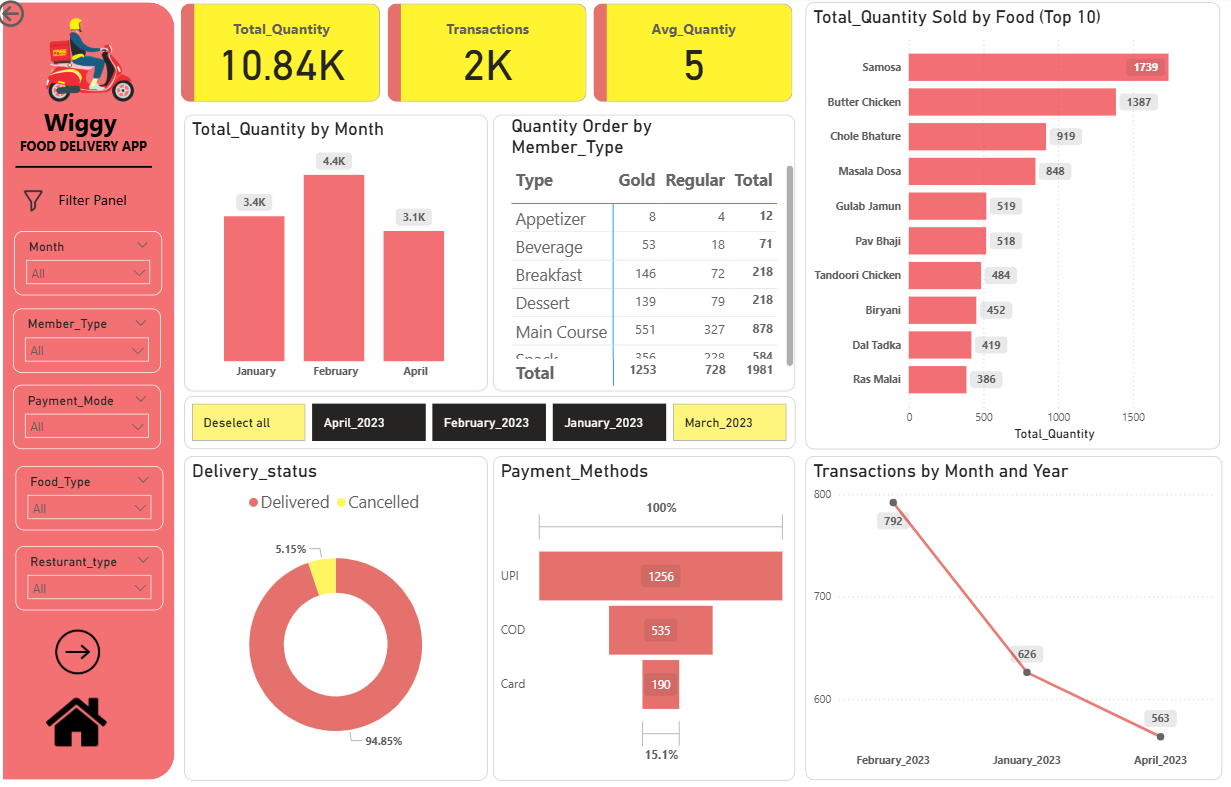

Layout of this report page (visuals, bound fields, positions):
{"tool":"powerbi","page":{"name":"Wiggy_Dashboard","canvas":[1400,900],"ordinal":0},"visuals":[{"type":"shape","box":[11,7,194,879],"z":0},{"type":"textbox","box":[9,118.6,187.6,70.5],"z":1000},{"type":"image","box":[45,7.5,129.1,130.6],"z":2000},{"type":"image","box":[28.8,172.9,34.3,118],"z":3000},{"type":"textbox","box":[50.8,214.1,123.5,31.6],"z":4000},{"type":"shape","box":[24.9,174.6,154.3,35.9],"z":5000},{"type":"cardVisual","fields":{"Data":["Sales Data.Total_Quantity","Sales Data.Transactions","Sales Data.Avg_Quantiy"]},"box":[207.8,7.8,701.1,111.1],"z":6000},{"type":"clusteredBarChart","title":"Total_Quantity Sold by Food (Top 10)","fields":{"Category":["Food_Details.Food"],"Y":["Sales Data.Total_Quantity"]},"box":[919.1,7.3,469.1,505.5],"z":9000},{"type":"clusteredColumnChart","fields":{"Category":["Sales Data.orderDate.Variation.Date Hierarchy.Month"],"Y":["Sales Data.Total_Quantity"]},"box":[215.7,134.3,342.9,312.9],"z":10000},{"type":"pivotTable","title":"Quantity Order by Member_Type","fields":{"Columns":["Customer Details.member_Type"],"Rows":["Food_Details.Type"],"Values":["Sales Data.Transactions"]},"box":[565.7,134.3,341.4,312.9],"z":11000},{"type":"donutChart","title":"Delivery_status","fields":{"Category":["Sales Data.deliver_status"],"Y":["Sales Data.Transactions"]},"box":[215.7,520,342.9,367.1],"z":12000},{"type":"funnel","title":"Payment_Methods","fields":{"Category":["Sales Data.payment_method"],"Y":["Sales Data.Transactions"]},"box":[565.7,520,341.4,367.1],"z":13000},{"type":"actionButton","box":[0,0,100,40],"z":14000},{"type":"slicer","fields":{"Values":["Sales Data.orderDate.Variation.Date Hierarchy.Month"]},"box":[23.8,266.2,167.5,72.5],"z":15000},{"type":"slicer","fields":{"Values":["Customer Details.member_Type"]},"box":[22.9,352.9,167.1,72.9],"z":16000},{"type":"lineChart","fields":{"Y":["Sales Data.Transactions"],"Category":["Sales Data.Month and Year"]},"box":[918.9,520,471.1,366.7],"z":17000},{"type":"slicer","fields":{"Values":["Sales Data.payment_method"]},"box":[22.9,440,167.1,72.9],"z":20000},{"type":"slicer","fields":{"Values":["Food_Details.Type"]},"box":[25.7,531.4,167.1,72.9],"z":21000},{"type":"slicer","fields":{"Values":["Resturant_Details.Resturant_type"]},"box":[25.7,621.4,167.1,72.9],"z":22000},{"type":"image","box":[62.9,708.6,67.1,67.1],"z":23000},{"type":"image","box":[55.7,780,78.6,81.4],"z":24000},{"type":"advancedSlicerVisual","fields":{"Values":["Sales Data.Month and Year"]},"box":[215.7,452.9,691.4,60],"z":25000}]}

Visuals, with their boxes in screenshot pixels (x1, y1, x2, y2), scaled from the page's 1400x900 canvas onto the 1231x787 screenshot:
shape: left=10, top=6, right=180, bottom=775
textbox: left=8, top=104, right=173, bottom=165
image: left=40, top=7, right=153, bottom=121
image: left=25, top=151, right=55, bottom=254
textbox: left=45, top=187, right=153, bottom=215
shape: left=22, top=153, right=158, bottom=184
cardVisual - Sales Data.Total_Quantity x Sales Data.Transactions: left=183, top=7, right=799, bottom=104
"Total_Quantity Sold by Food (Top 10)" clusteredBarChart: left=808, top=6, right=1221, bottom=448
clusteredColumnChart - Sales Data.orderDate.Variation.Date Hierarchy.Month x Sales Data.Total_Quantity: left=190, top=117, right=491, bottom=391
"Quantity Order by Member_Type" pivotTable: left=497, top=117, right=798, bottom=391
"Delivery_status" donutChart: left=190, top=455, right=491, bottom=776
"Payment_Methods" funnel: left=497, top=455, right=798, bottom=776
actionButton: left=0, top=0, right=88, bottom=35
slicer - Sales Data.orderDate.Variation.Date Hierarchy.Month: left=21, top=233, right=168, bottom=296
slicer - Customer Details.member_Type: left=20, top=309, right=167, bottom=372
lineChart - Sales Data.Transactions x Sales Data.Month and Year: left=808, top=455, right=1222, bottom=775
slicer - Sales Data.payment_method: left=20, top=385, right=167, bottom=449
slicer - Food_Details.Type: left=23, top=465, right=170, bottom=528
slicer - Resturant_Details.Resturant_type: left=23, top=543, right=170, bottom=607
image: left=55, top=620, right=114, bottom=678
image: left=49, top=682, right=118, bottom=753
advancedSlicerVisual - Sales Data.Month and Year: left=190, top=396, right=798, bottom=449
